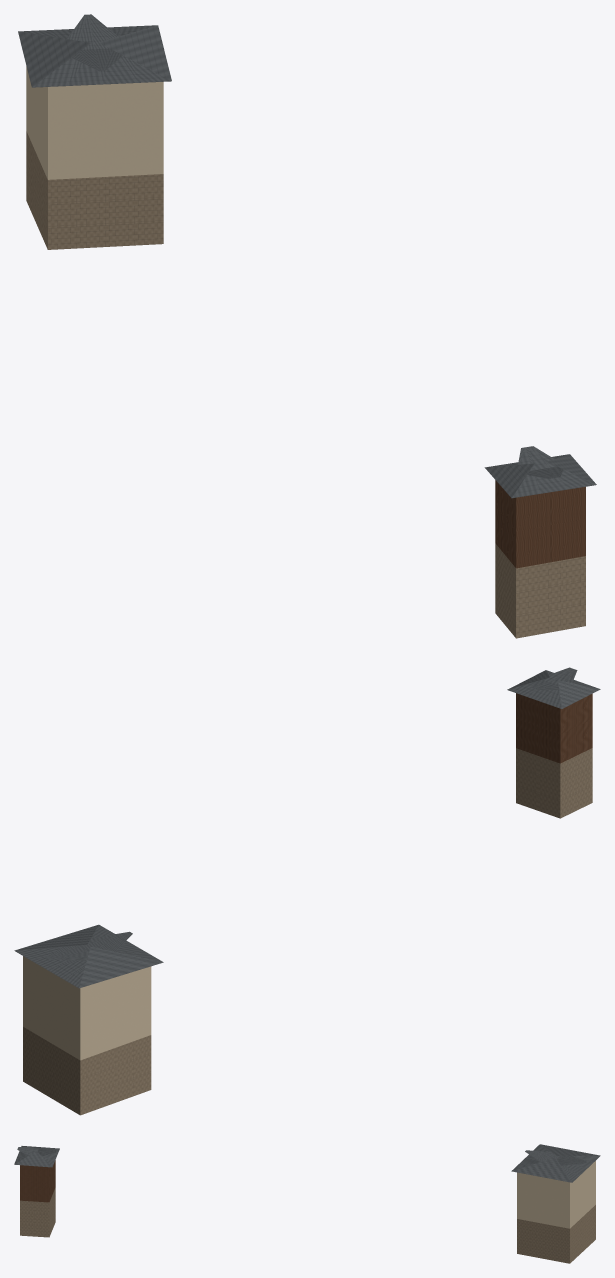
The model's file is bld_c10_27_401.gltf.
3 views of the same model, one above another, from view 1: azimuth 30°, elevation 25°; view 2: azimuth 150°, elevation 25°; view 3: azimuth 270°, elevation 25° (orthographic). The views are drawn at different scales.
Visible parts, largest first — view 1: bld_c10_27_401; view 2: bld_c10_27_401; view 3: bld_c10_27_401.
Part boxes in pixels (box(x1,y1,x2,y2)): bld_c10_27_401: box(18, 14, 596, 638); bld_c10_27_401: box(14, 667, 600, 1115); bld_c10_27_401: box(14, 1144, 600, 1263).
Size of the model in its own units: 15.01 by 13.1 by 77.43.
Materials: 4 (4 with a texture image).
